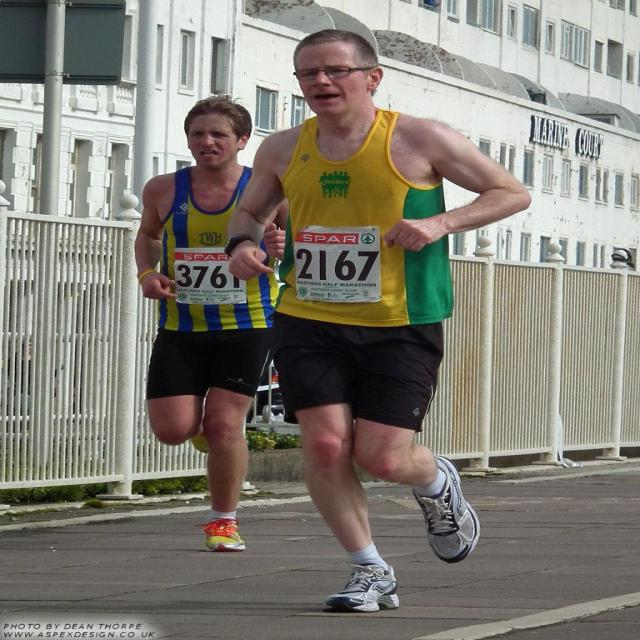Bib: (293, 251, 379, 286), (172, 264, 247, 296)
